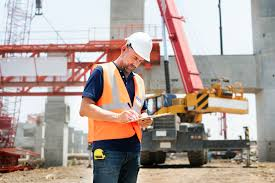hard hat: (125, 32, 153, 62)
high-vis: (87, 62, 145, 142)
